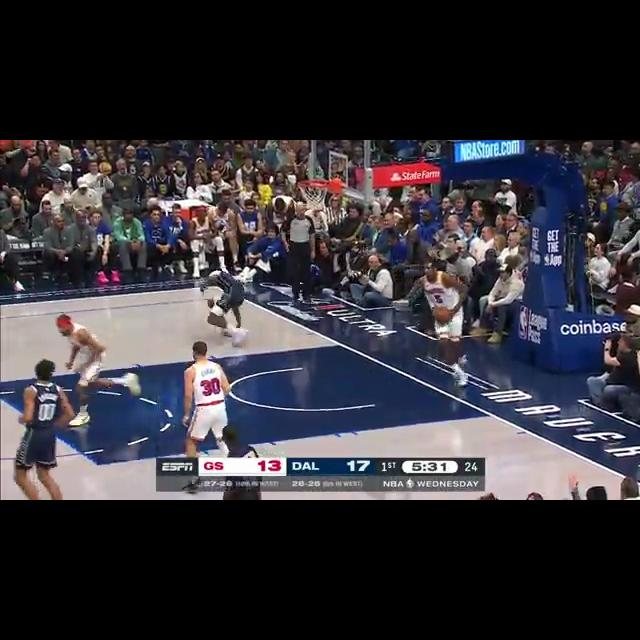Ball: (430, 300, 454, 326)
Team-1-Player: (9, 348, 81, 498), (196, 260, 256, 344)
Team-2-Player: (52, 314, 154, 428), (399, 255, 479, 388), (172, 338, 254, 458)
